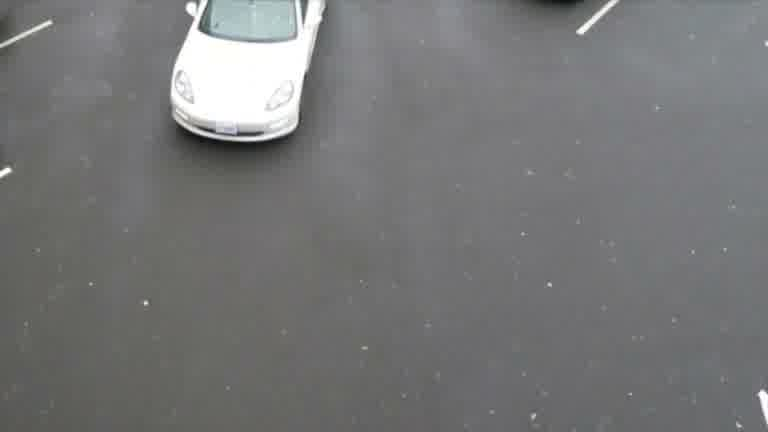car: (161, 0, 346, 162)
